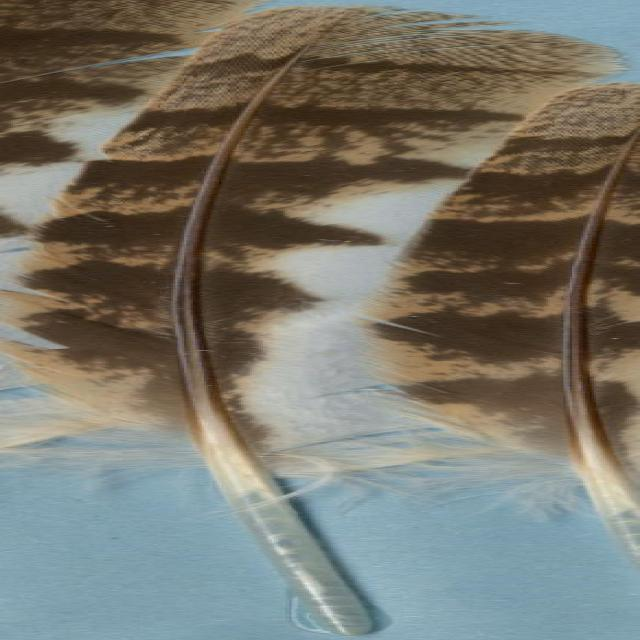feather: (0, 2, 603, 634), (361, 74, 640, 560)
